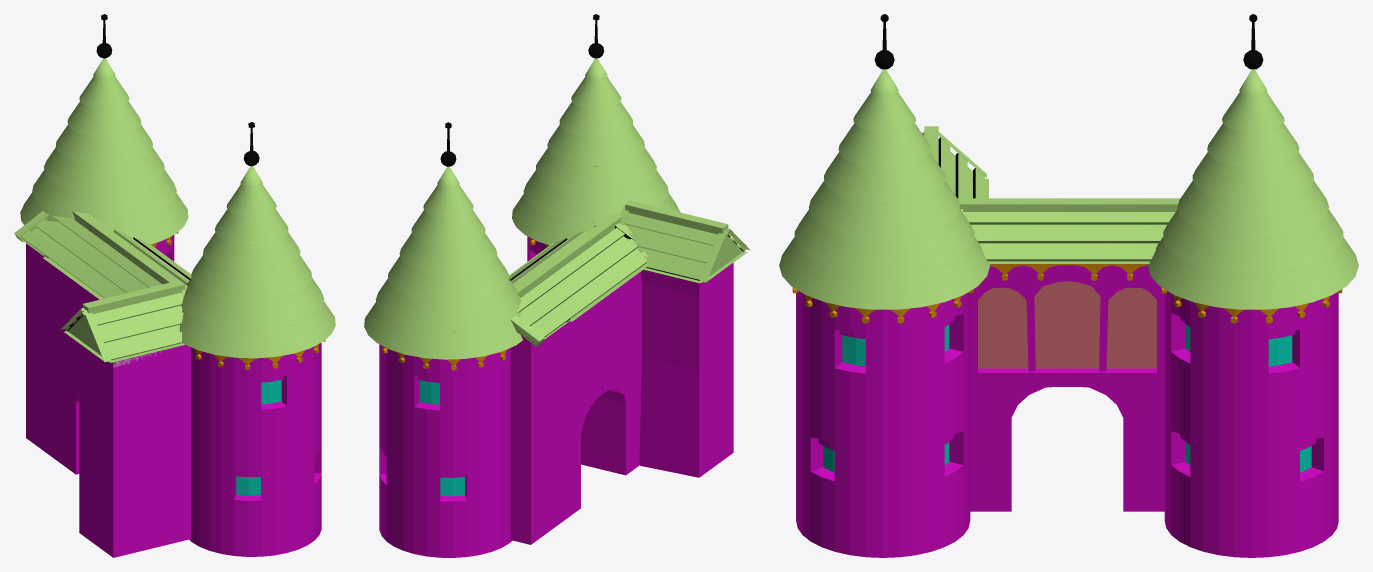
The model's file is GameProject3_OberesTorVariante2.fbx.
3 views of the same model, side by side, from view 1: azimuth 30°, elevation 25°; view 2: azimuth 150°, elevation 25°; view 3: azimuth 270°, elevation 25° (orthographic). The views are drawn at different scales.
Visible parts, largest first — view 1: Oberes Tor Variante 2; view 2: Oberes Tor Variante 2; view 3: Oberes Tor Variante 2.
Part boxes in pixels (box(x1,y1,x2,y2)): Oberes Tor Variante 2: box(14, 14, 335, 557); Oberes Tor Variante 2: box(364, 14, 750, 557); Oberes Tor Variante 2: box(779, 14, 1358, 557).
Size of the model in its own units: 1020 by 1770 by 1834.
